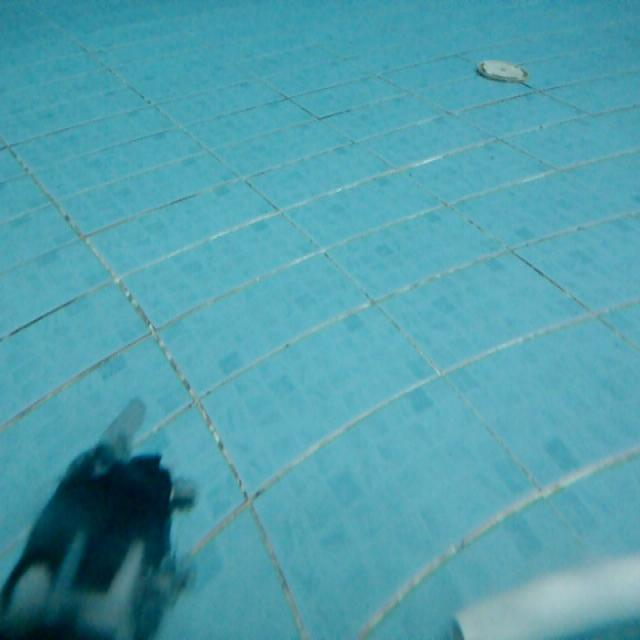Cube: (451, 538, 640, 638)
